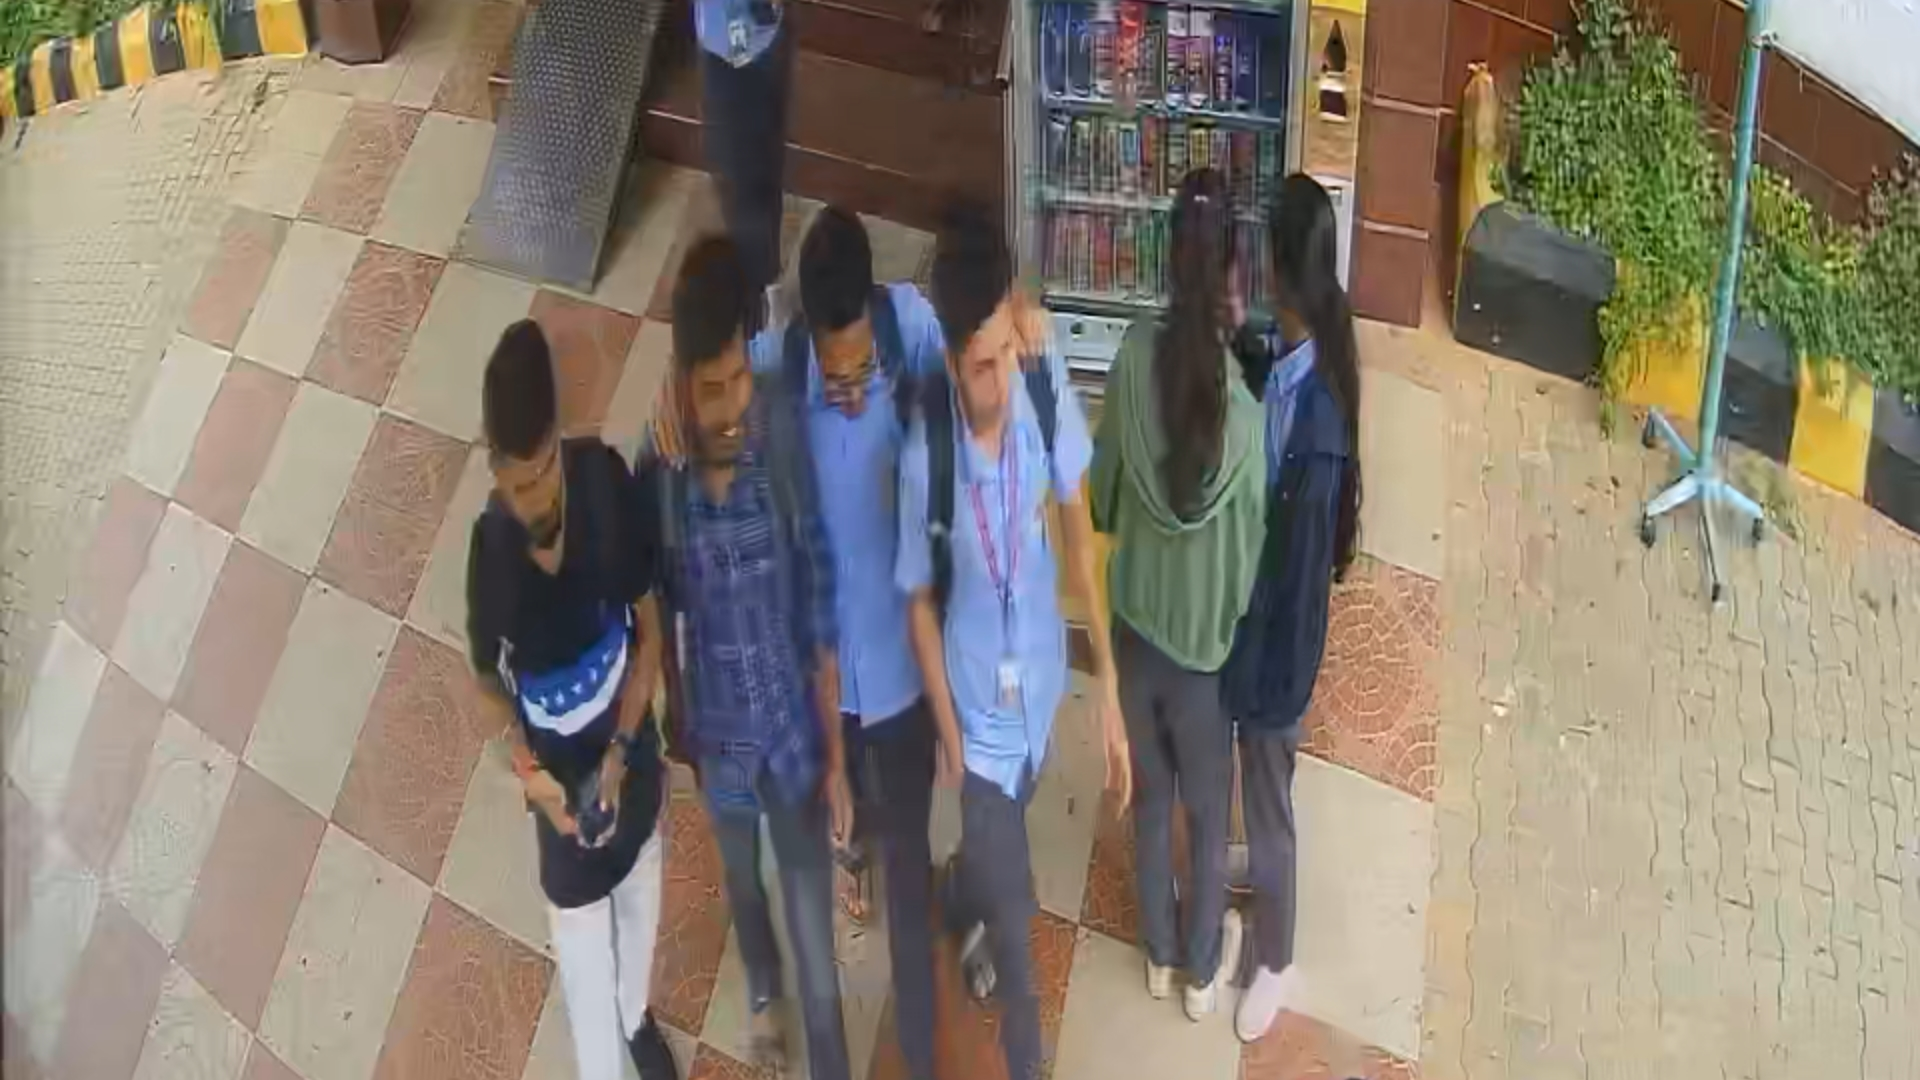intruder: (654, 227, 857, 1075), (473, 309, 678, 1080), (781, 233, 949, 1080)
not intruder: (922, 218, 1073, 1073)
